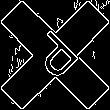P_SE: (24, 24, 86, 86)
